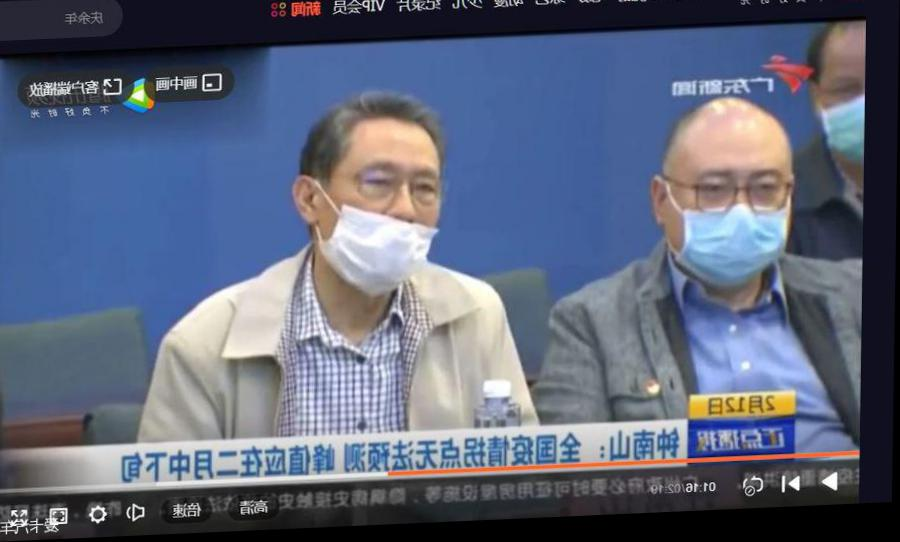OK: (667, 155, 793, 292), (824, 59, 868, 184)
WRONG: (321, 149, 443, 299)
